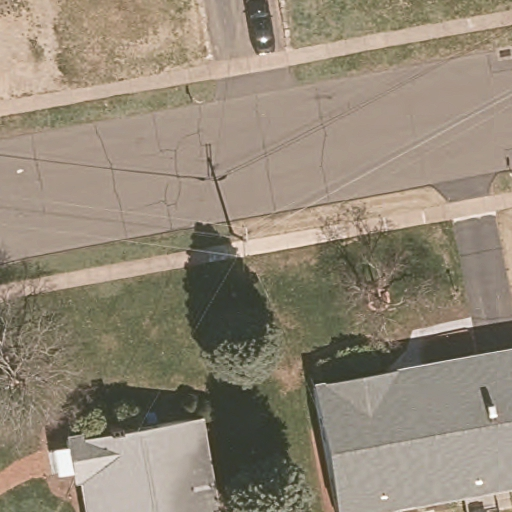DT: (231, 223, 253, 269)
